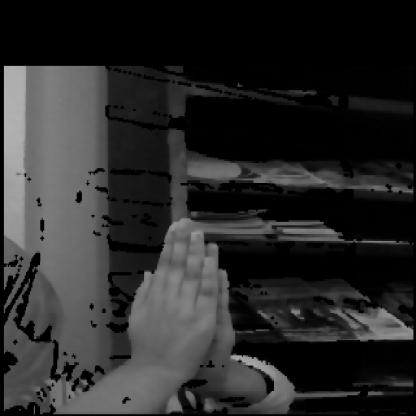namaste: (83, 203, 269, 400)
